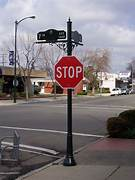stop: (53, 55, 85, 91)
